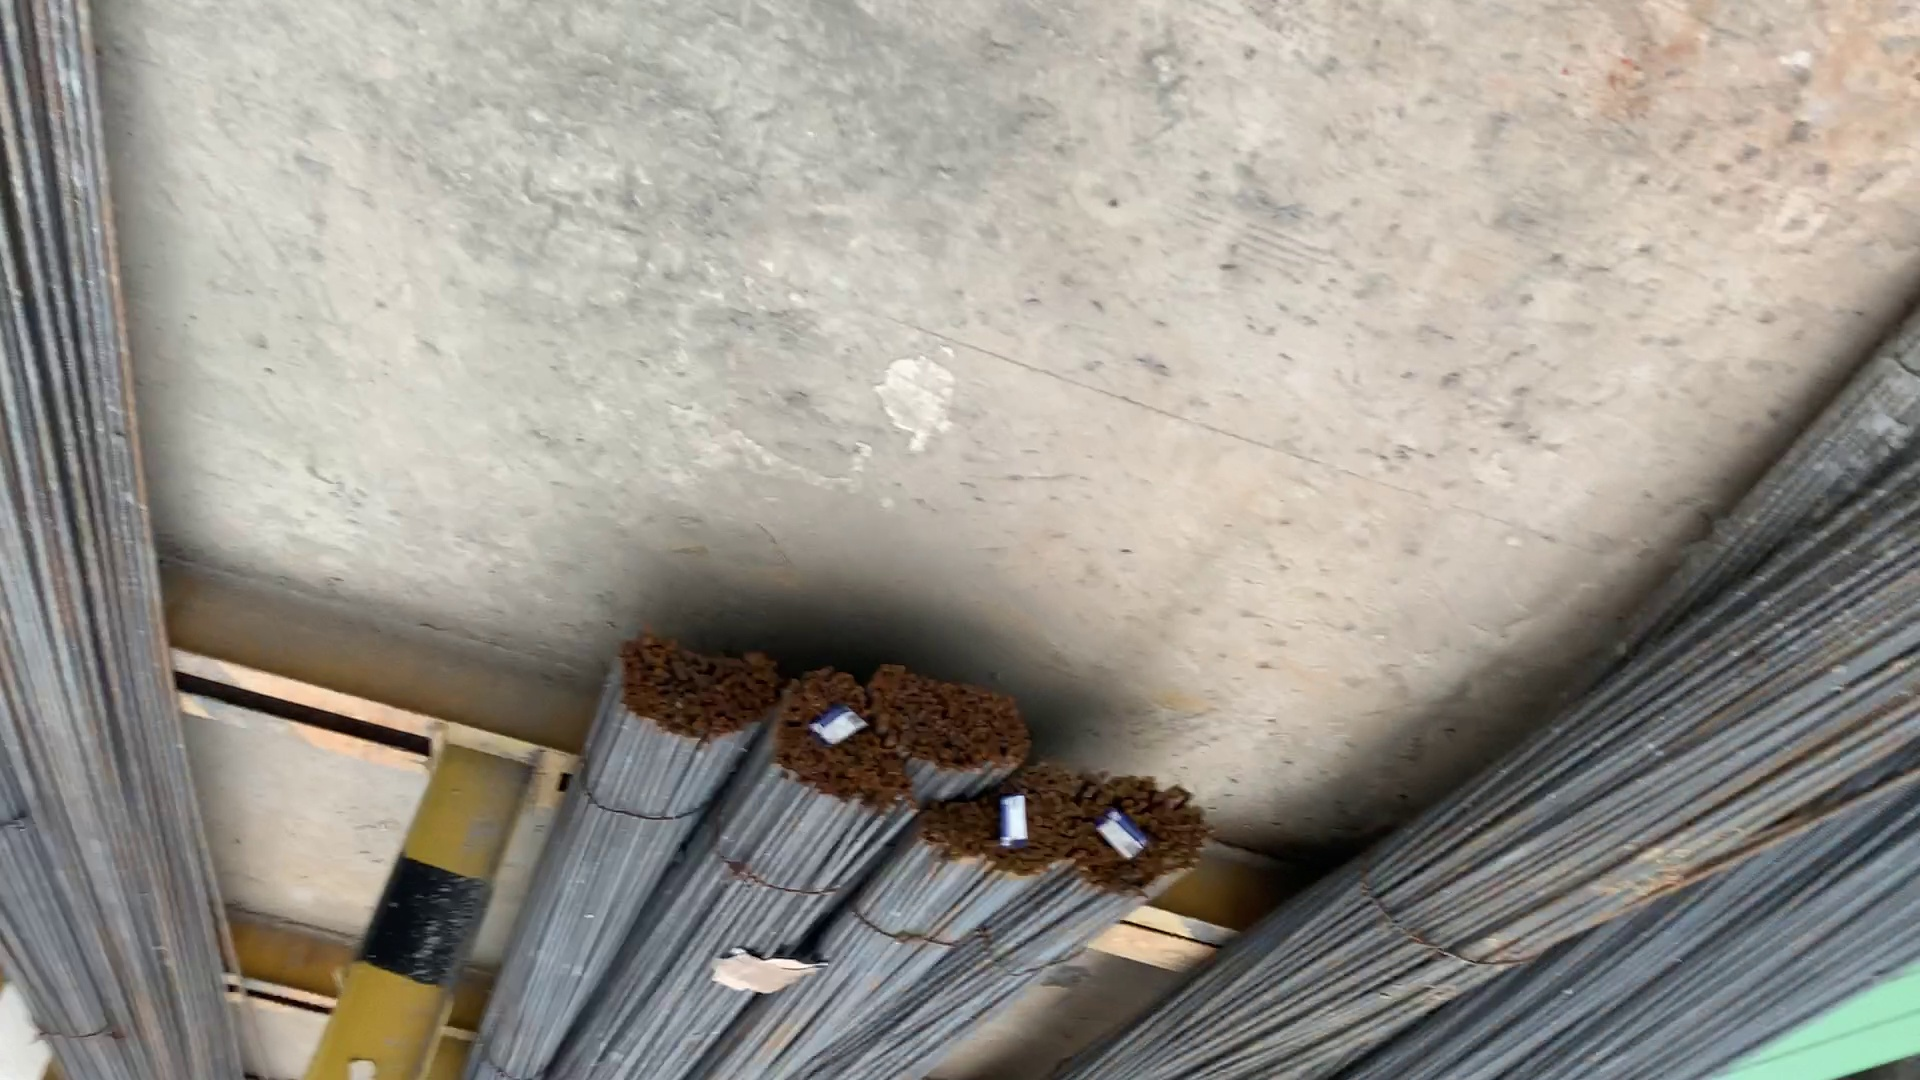rebar: (618, 634, 774, 745), (920, 770, 1083, 876), (779, 676, 897, 815), (1083, 771, 1207, 893), (881, 670, 1025, 767)
